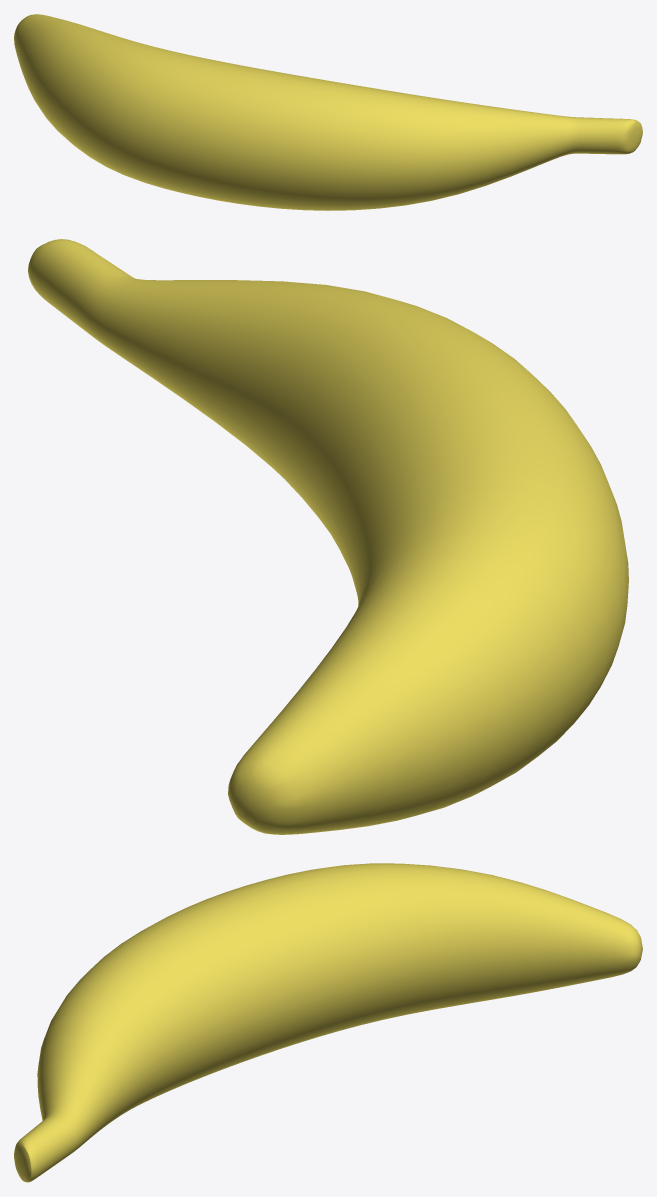
File: Banana.fbx
3 views of the same model, one above another, from view 1: azimuth 30°, elevation 25°; view 2: azimuth 150°, elevation 25°; view 3: azimuth 270°, elevation 25° (orthographic). The views are drawn at different scales.
Visible parts, largest first — view 1: banana; view 2: banana; view 3: banana.
Boxes of the visible parts, x1,y1,x2,y2 form: banana: (14, 14, 642, 210); banana: (28, 239, 628, 834); banana: (14, 863, 642, 1182).
Bounding box in the file's own units: 0.1419 × 0.0398 × 0.1506.
